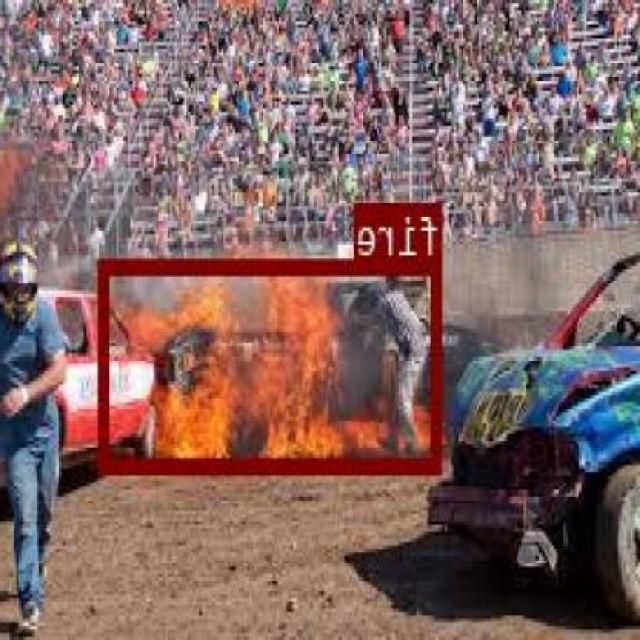Fire: (101, 256, 444, 472)
